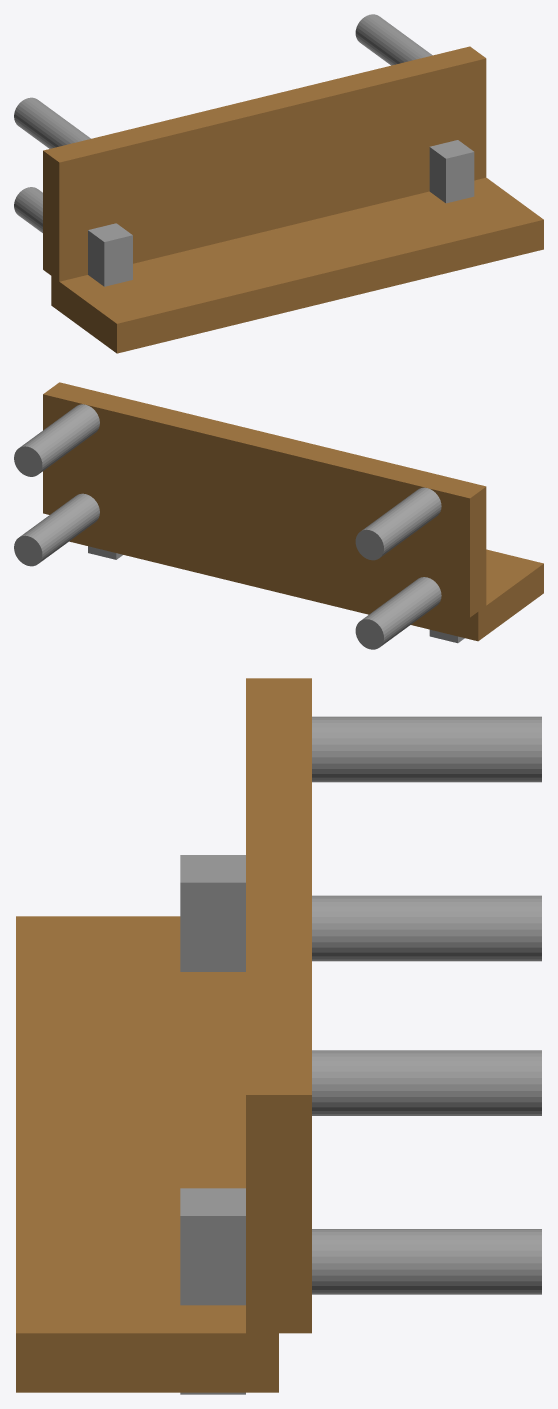
The model's file is bench.glb.
The picture shows the model from 3 angles, top to bottom: view 1: azimuth 30°, elevation 25°; view 2: azimuth 150°, elevation 25°; view 3: azimuth 270°, elevation 25°; orthographic projection. The views are drawn at different scales.
Visible parts, largest first — view 1: geometry_0, geometry_1, geometry_2, geometry_3; view 2: geometry_0, geometry_2, geometry_1, geometry_3; view 3: geometry_1, geometry_2, geometry_0, geometry_3.
Part boxes in pixels (<box>): geometry_0: <box>43,46,486,281</box>; geometry_1: <box>51,177,543,353</box>; geometry_2: <box>14,14,432,232</box>; geometry_3: <box>88,140,474,286</box>; geometry_0: <box>43,382,486,617</box>; geometry_2: <box>14,404,441,649</box>; geometry_1: <box>69,525,543,641</box>; geometry_3: <box>88,546,464,643</box>; geometry_1: <box>16,916,278,1392</box>; geometry_2: <box>312,716,541,1294</box>; geometry_0: <box>246,678,311,1333</box>; geometry_3: <box>180,855,245,1394</box>.
Size of the model in its own units: 1.5 by 0.55 by 0.8.
